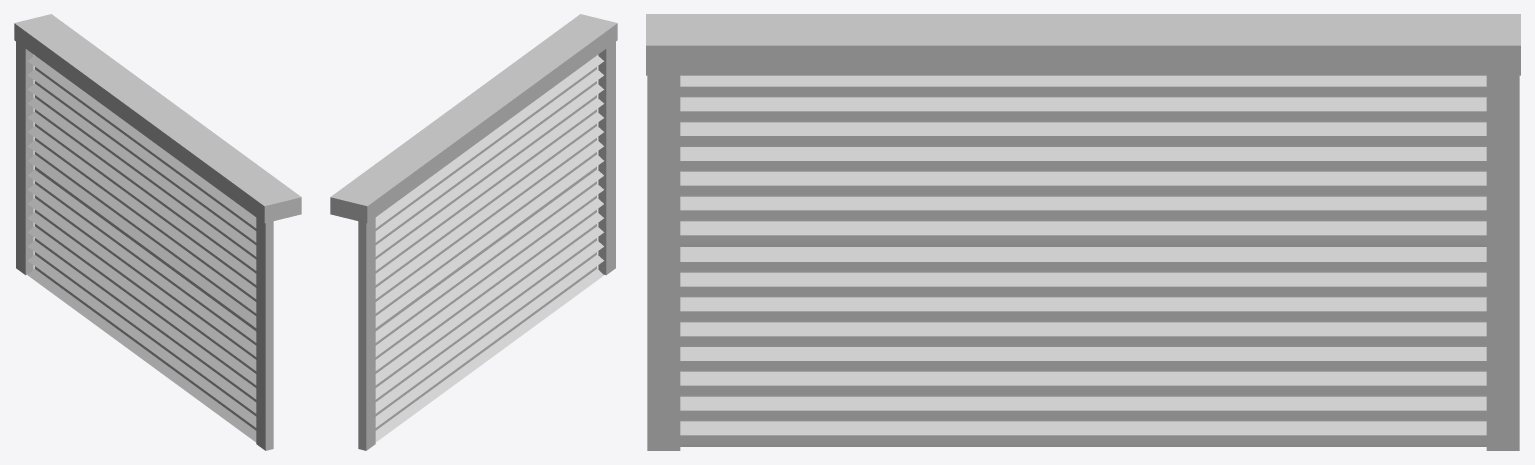
File: GarageDoor.fbx
3 views of the same model, side by side, from view 1: azimuth 30°, elevation 25°; view 2: azimuth 150°, elevation 25°; view 3: azimuth 270°, elevation 25° (orthographic). The views are drawn at different scales.
Parts seen in each view (by area): view 1: Door, Frame; view 2: Door, Frame; view 3: Door, Frame.
Boxes of the visible parts, x1=… form: Door: x1=27, y1=55, x2=256, y2=442; Frame: x1=14, y1=14, x2=301, y2=450; Door: x1=375, y1=55, x2=604, y2=442; Frame: x1=330, y1=14, x2=617, y2=450; Door: x1=680, y1=75, x2=1486, y2=446; Frame: x1=646, y1=14, x2=1520, y2=450.
Size of the model in its own units: 134 by 846 by 1560.
